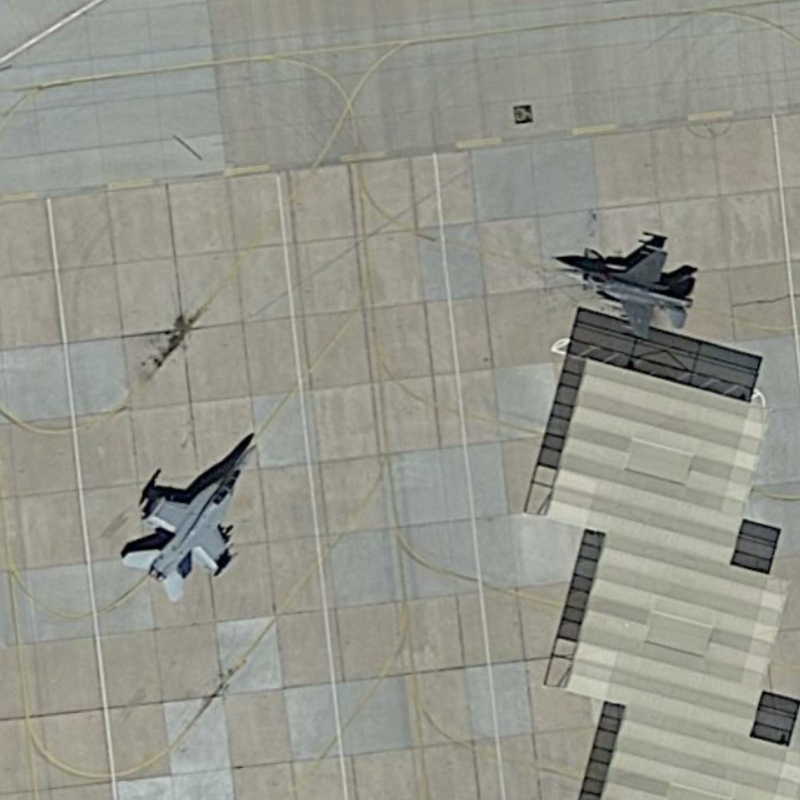A16: (114, 439, 264, 606)
A5: (533, 230, 703, 341)
